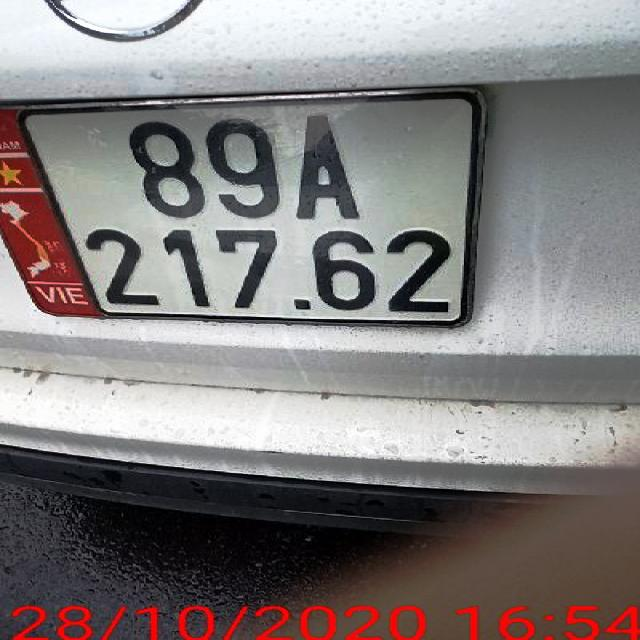license_plate: (20, 94, 481, 325)
